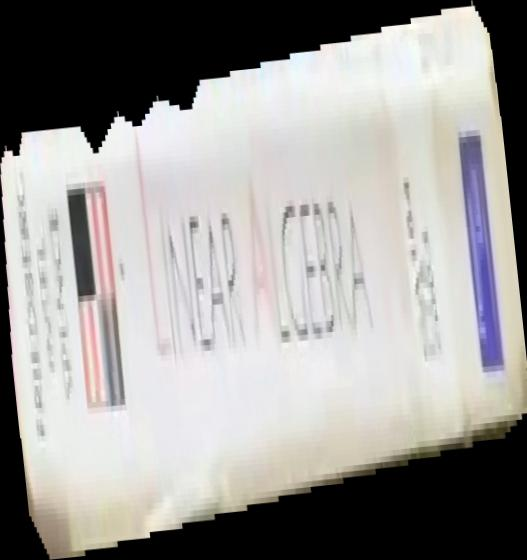flat: (1, 1, 527, 560)
